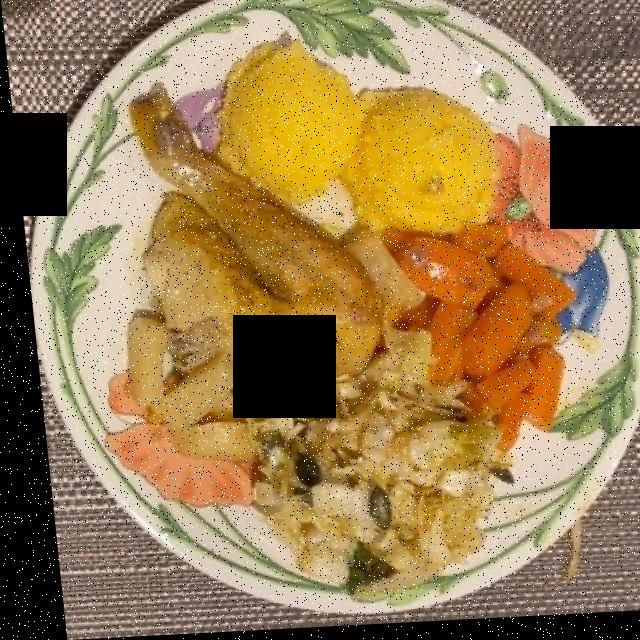carrot-raw: (363, 233, 551, 471)
chicken-leg: (125, 78, 366, 364)
grits-polenta-maize-flour: (201, 41, 491, 243)
kolhrabi: (118, 306, 275, 464)
sunflower-seeds: (356, 486, 385, 533)
witloof-chicory: (223, 371, 506, 598)
